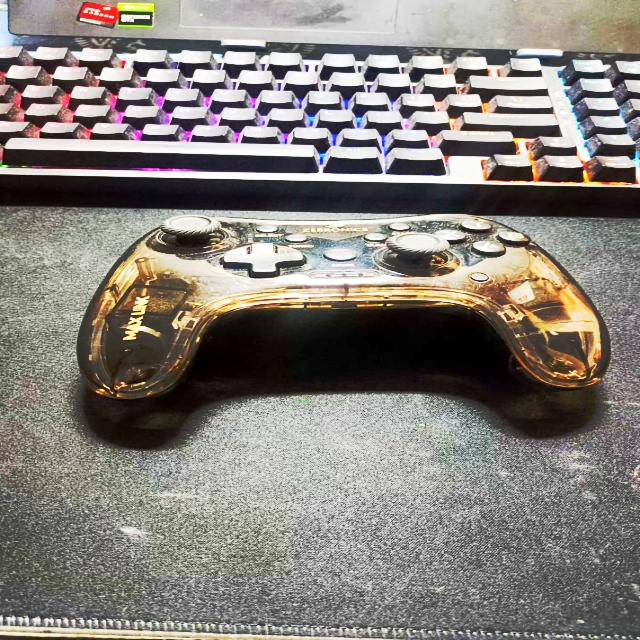gamepad: (76, 211, 622, 447)
